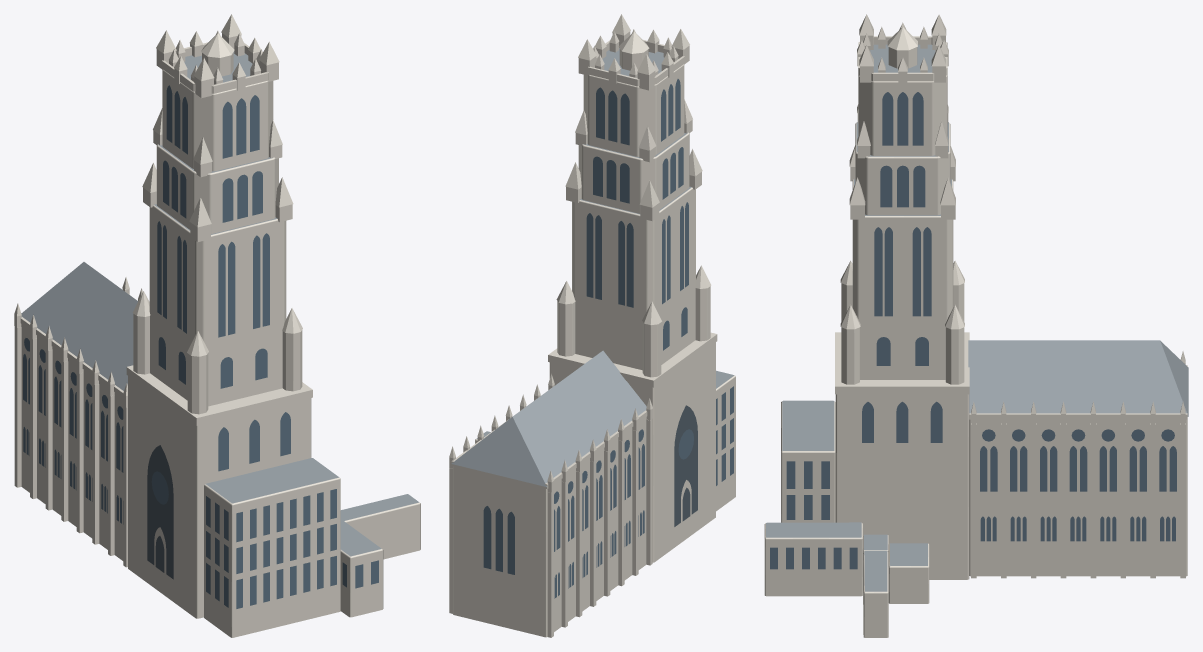
The model's file is nyc-riverside-church.glb.
3 renders of one model, left to right at view 1: azimuth 30°, elevation 25°; view 2: azimuth 150°, elevation 25°; view 3: azimuth 270°, elevation 25°, orthographic. The views are drawn at different scales.
Parts seen in each view (by area): view 1: The Riverside Church; view 2: The Riverside Church; view 3: The Riverside Church.
Part boxes in pixels (x1,y1,x2,y2): The Riverside Church: [14, 14, 420, 637]; The Riverside Church: [449, 14, 735, 637]; The Riverside Church: [764, 14, 1188, 637].
Bounding box in the file's own units: 58.4 × 127 × 92.65.
